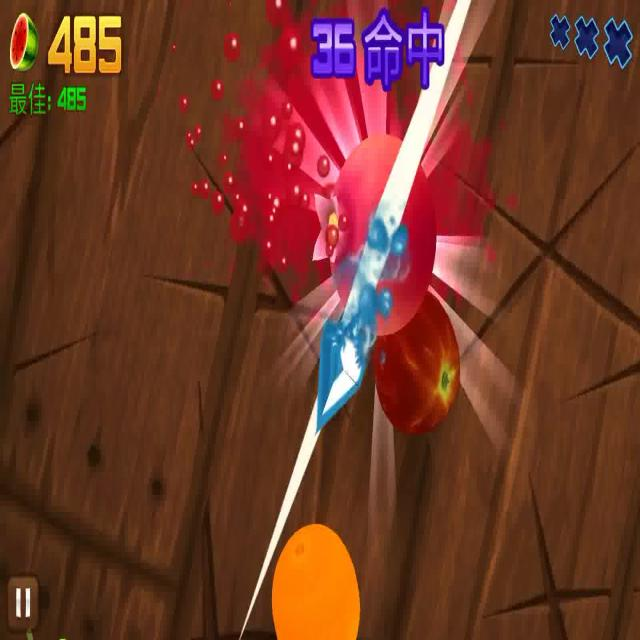fruit: (328, 139, 436, 339), (374, 288, 461, 436), (271, 527, 360, 640)
